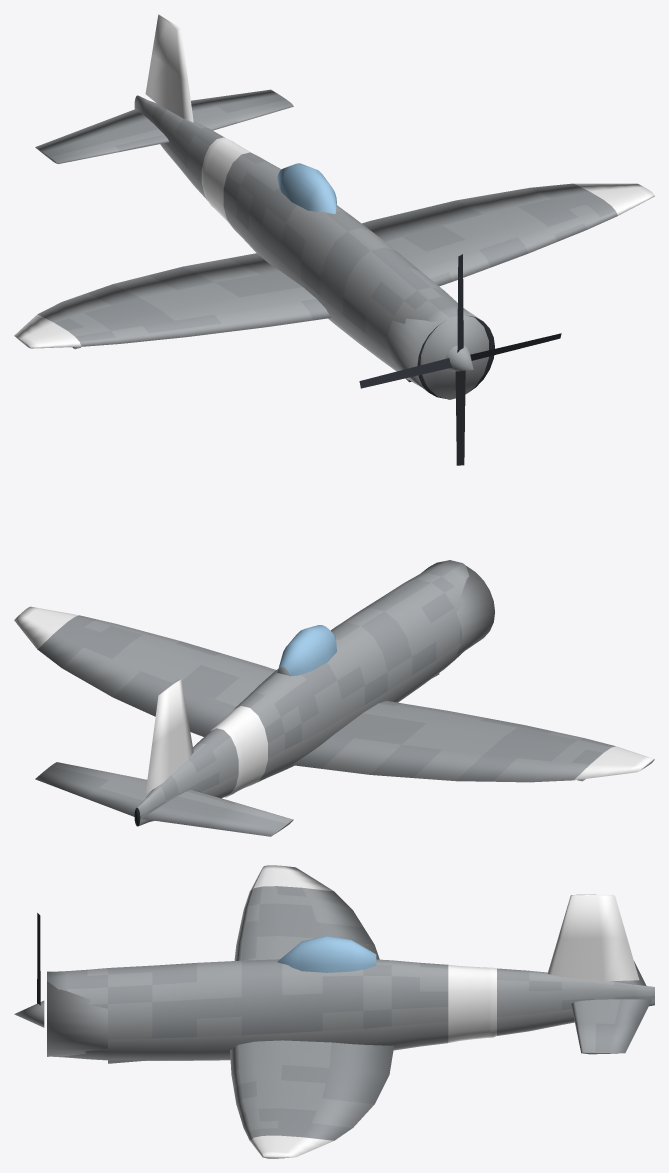
The picture shows the model from 3 angles, top to bottom: view 1: azimuth 30°, elevation 25°; view 2: azimuth 150°, elevation 25°; view 3: azimuth 270°, elevation 25°; orthographic projection. The views are drawn at different scales.
Visible parts, largest first — view 1: body, prop; view 2: body; view 3: body, prop.
Boxes of the visible parts, x1,y1,x2,y2 form: body: (14, 14, 654, 399); prop: (359, 254, 561, 465); body: (14, 560, 654, 836); body: (47, 865, 654, 1158); prop: (14, 913, 44, 1027).
Size of the model in its own units: 12.42 by 4.38 by 11.6.
